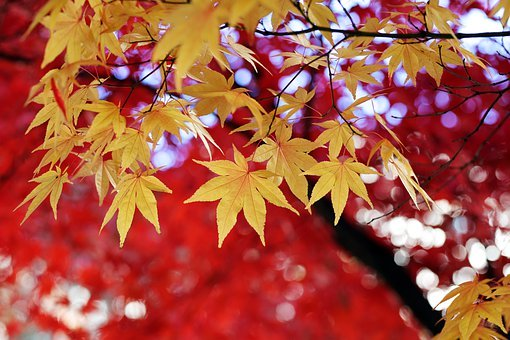tree: (33, 10, 510, 324)
